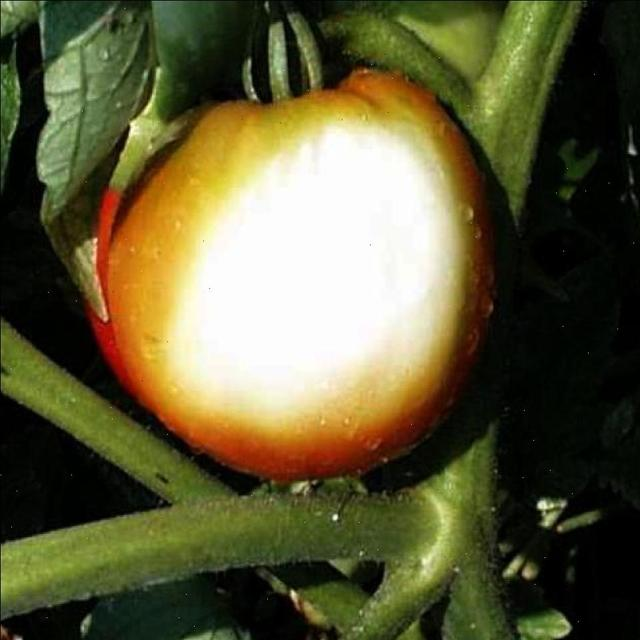Sunscald Fruit: (105, 72, 315, 288)
